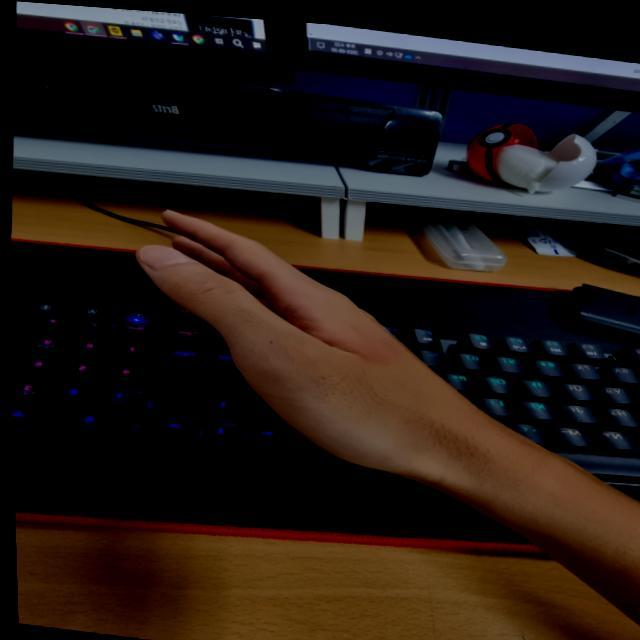keyboard-with-hands: (5, 290, 640, 486)
